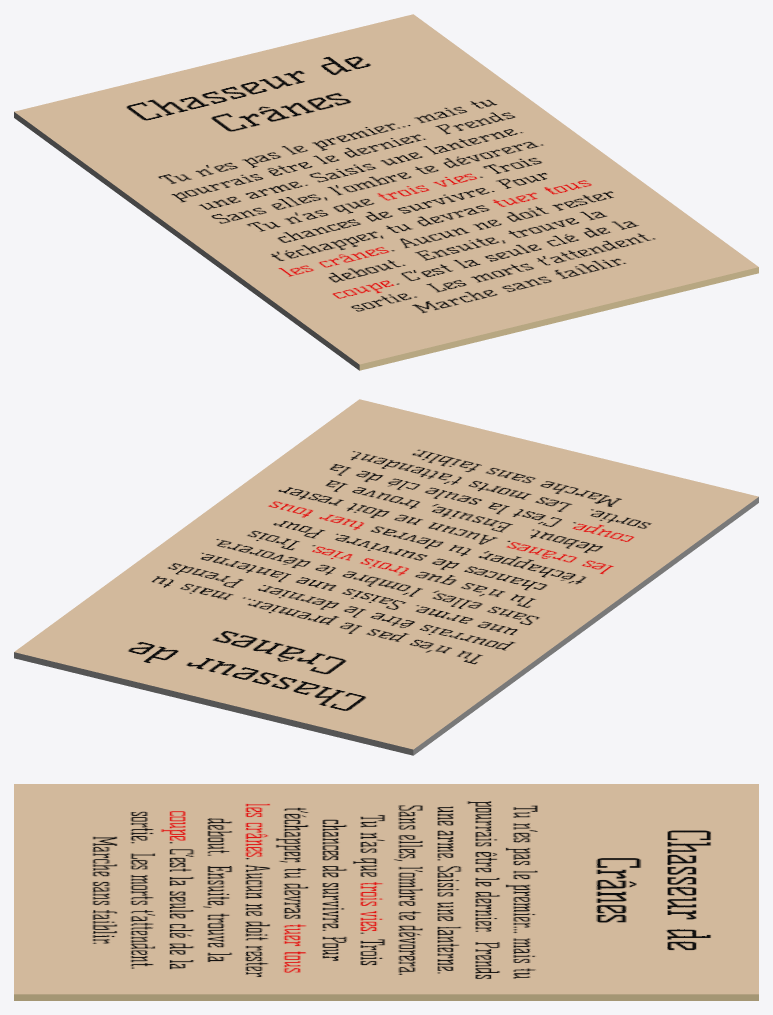
The model's file is menu.fbx.
The picture shows the model from 3 angles, top to bottom: view 1: azimuth 30°, elevation 25°; view 2: azimuth 150°, elevation 25°; view 3: azimuth 270°, elevation 25°; orthographic projection. The views are drawn at different scales.
Visible parts, largest first — view 1: pPlane1; view 2: pPlane1; view 3: pPlane1.
Part boxes in pixels (x1,y1,x2,y2): pPlane1: (14, 14, 758, 370); pPlane1: (14, 399, 758, 755); pPlane1: (14, 784, 758, 1000).
Size of the model in its own units: 0.6858 by 0.0102 by 1.03.
Materials: 3 (1 with a texture image).
